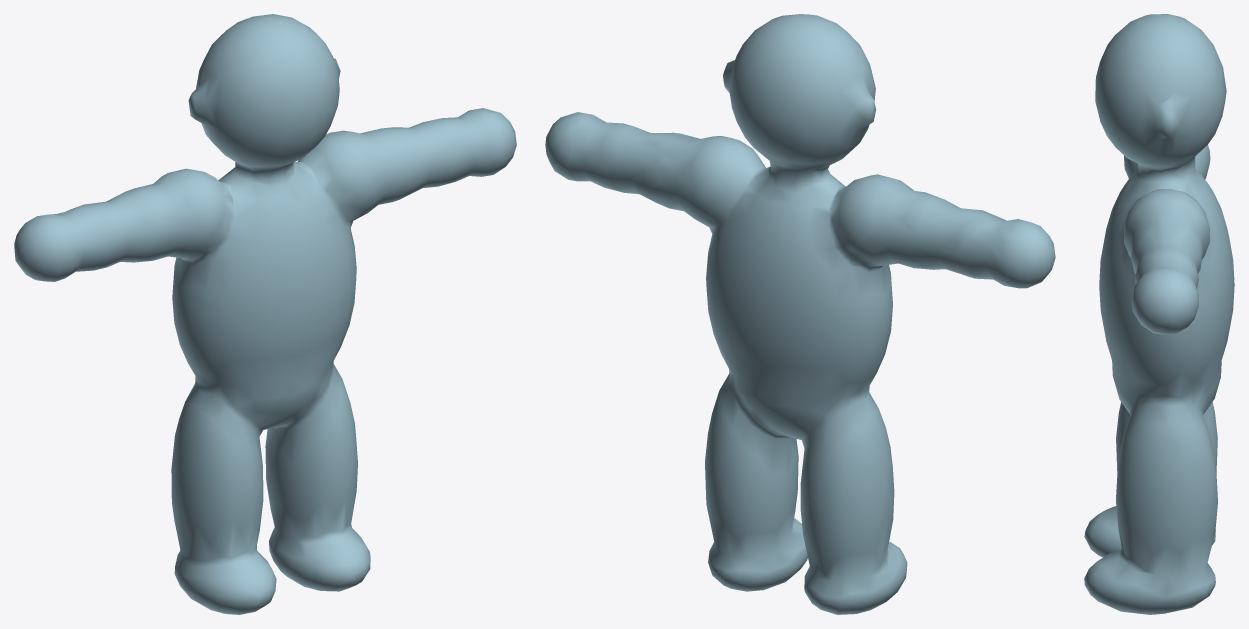
The model's file is body-study.glb.
3 renders of one model, left to right at view 1: azimuth 30°, elevation 25°; view 2: azimuth 150°, elevation 25°; view 3: azimuth 270°, elevation 25°, orthographic.
Parts seen in each view (by area): view 1: Long round body — T pose study; view 2: Long round body — T pose study; view 3: Long round body — T pose study.
Boxes of the visible parts, x1=… form: Long round body — T pose study: x1=14, y1=14, x2=516, y2=614; Long round body — T pose study: x1=545, y1=14, x2=1055, y2=614; Long round body — T pose study: x1=1084, y1=14, x2=1234, y2=614.
Bounding box in the file's own units: 2.25 × 2.48 × 0.5963.
